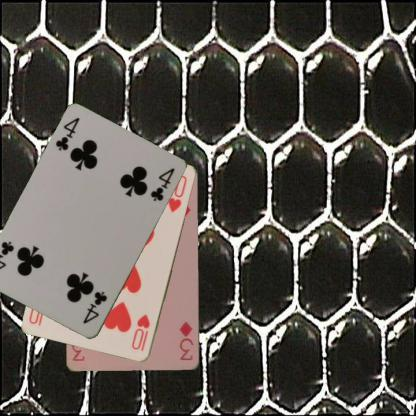10h: (129, 312, 151, 352)
3d: (177, 319, 195, 362)
4c: (52, 115, 82, 153), (80, 289, 109, 326)
